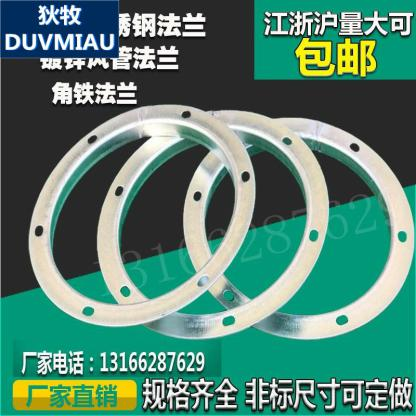FOD: (94, 104, 335, 345), (181, 112, 415, 348), (22, 99, 256, 330)
